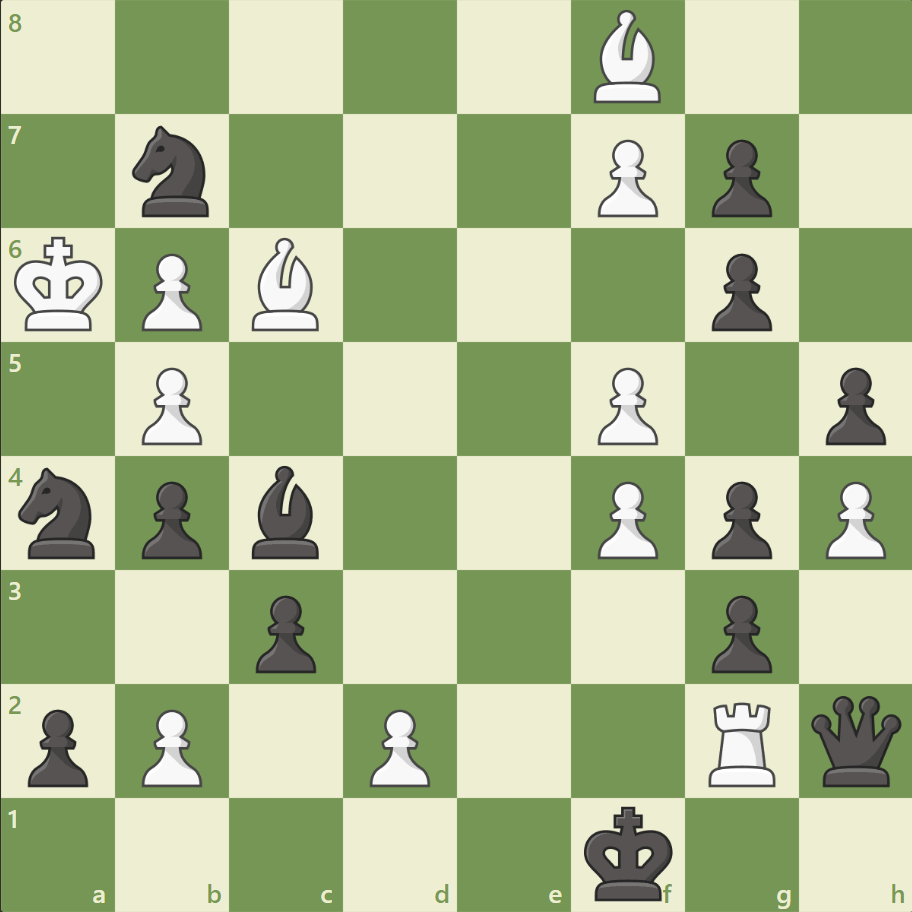B: (585, 6, 669, 109), (244, 233, 328, 336)
K: (11, 231, 111, 339)
P: (133, 246, 208, 337), (133, 359, 208, 450), (133, 700, 208, 791), (588, 132, 662, 223), (588, 359, 662, 450), (588, 473, 662, 564), (815, 473, 889, 564), (361, 700, 435, 791)
R: (700, 693, 783, 790)
b: (244, 460, 328, 563)
k: (579, 798, 679, 906)
n: (124, 121, 222, 223), (11, 461, 108, 564)
p: (701, 132, 776, 223), (701, 246, 776, 337), (133, 473, 208, 564), (701, 473, 776, 564), (247, 586, 322, 677), (701, 586, 776, 677), (20, 700, 95, 791), (815, 359, 889, 450)
q: (805, 690, 904, 789)
